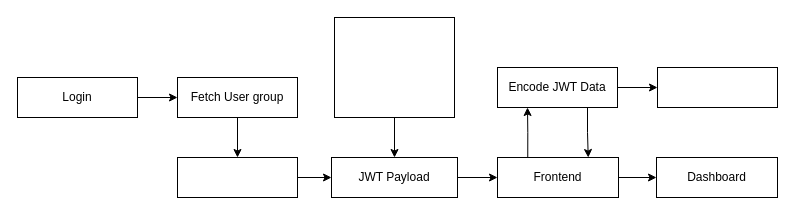
This 795x215 diagram has some shape labels left out. The shapes that lost their labels are listed below. From the top down, each one's centre as x and y in pixels, then its label:
At (x=394, y=67): "firstname lastname email permissions".
At (x=717, y=87): "Store permissions in context".
At (x=237, y=177): "Fetch Group Permissions".
